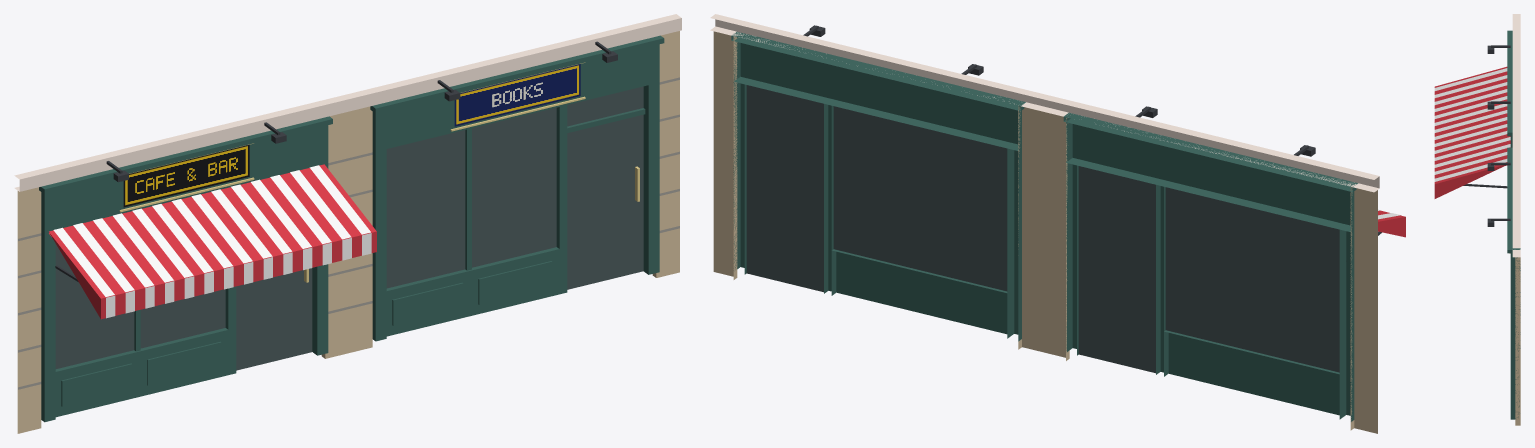
Rendered from base-w2_close.fbx.
3 views of the same model, side by side, from view 1: azimuth 30°, elevation 25°; view 2: azimuth 150°, elevation 25°; view 3: azimuth 270°, elevation 25° (orthographic). The views are drawn at different scales.
Visible parts, largest first — view 1: a2006/500/base-w2_close; view 2: a2006/500/base-w2_close; view 3: a2006/500/base-w2_close.
Part boxes in pixels (left/top/right/bottom): a2006/500/base-w2_close: left=14, top=14, right=681, bottom=433; a2006/500/base-w2_close: left=710, top=14, right=1405, bottom=433; a2006/500/base-w2_close: left=1434, top=14, right=1520, bottom=425.
Size of the model in its own units: 8.4 by 3.1 by 1.3.
